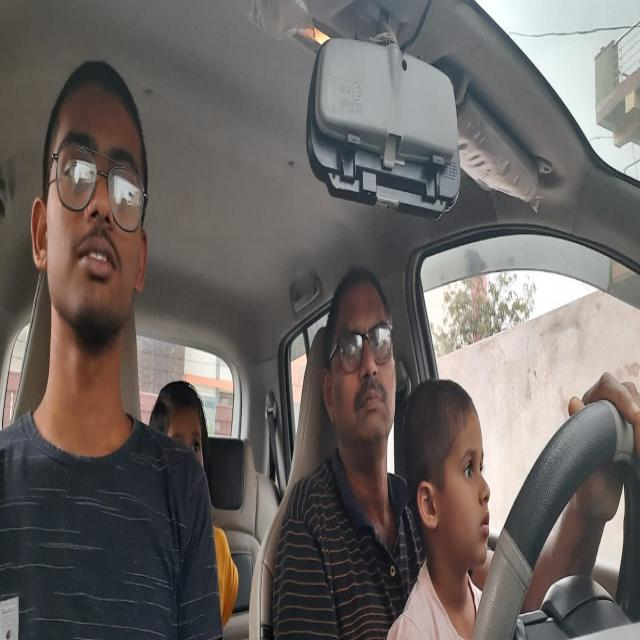child: (410, 397, 494, 569)
person: (23, 63, 150, 340), (321, 278, 398, 456), (152, 380, 209, 456)
